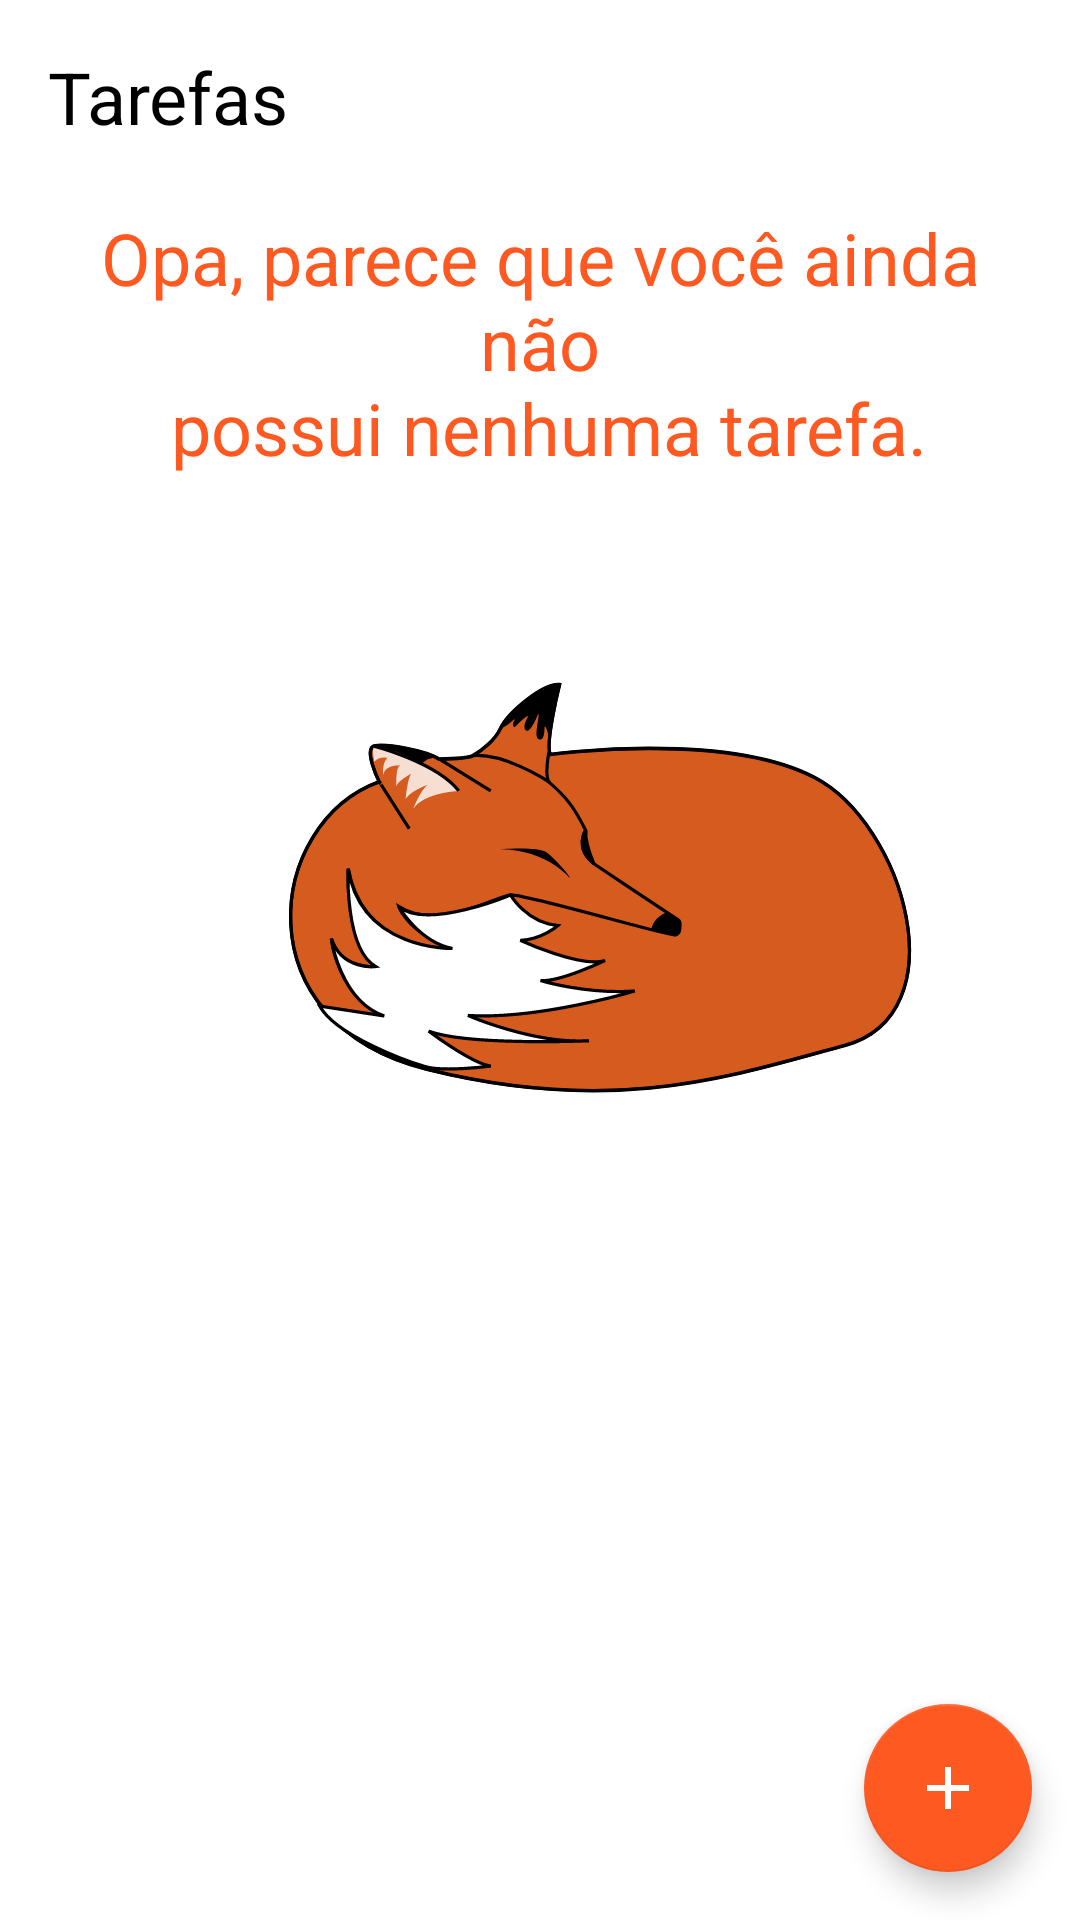

Named icons in this screenshot (1080×1920) and their bounding boxes, (x1, y1, x2, y2):
Nova Tarefa: (864, 1704, 1032, 1872)
